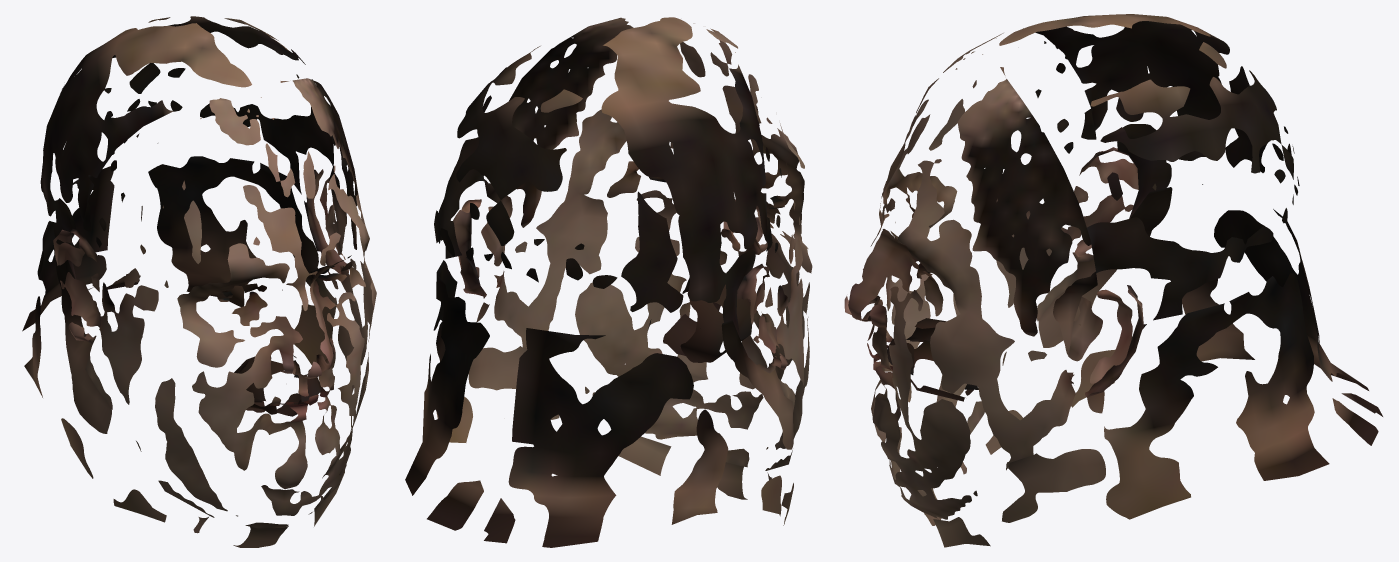
Rendered from head.obj.
3 views of the same model, side by side, from view 1: azimuth 30°, elevation 25°; view 2: azimuth 150°, elevation 25°; view 3: azimuth 270°, elevation 25° (orthographic). The views are drawn at different scales.
Parts seen in each view (by area): view 1: rdmobj01.001; view 2: rdmobj01.001; view 3: rdmobj01.001.
Part boxes in pixels (box(x1,y1,x2,y2)): rdmobj01.001: box(22, 16, 376, 547); rdmobj01.001: box(405, 17, 812, 547); rdmobj01.001: box(844, 14, 1382, 547).
Size of the model in its own units: 0.606 by 0.9578 by 0.9161.
Materials: 1 (1 with a texture image).
